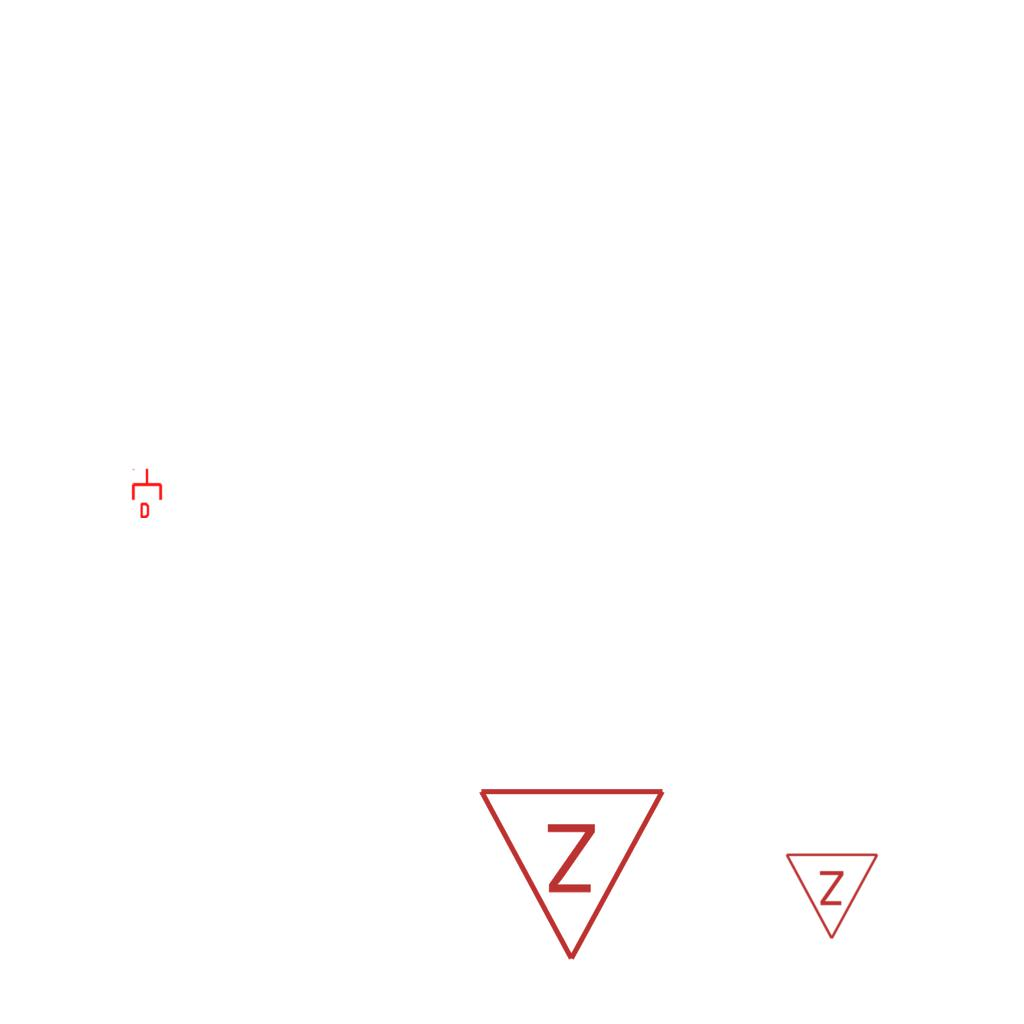Datenanschluss_einfach: (130, 468, 164, 518)
Zimmersignalleuchte: (476, 774, 672, 974), (784, 846, 882, 946)
